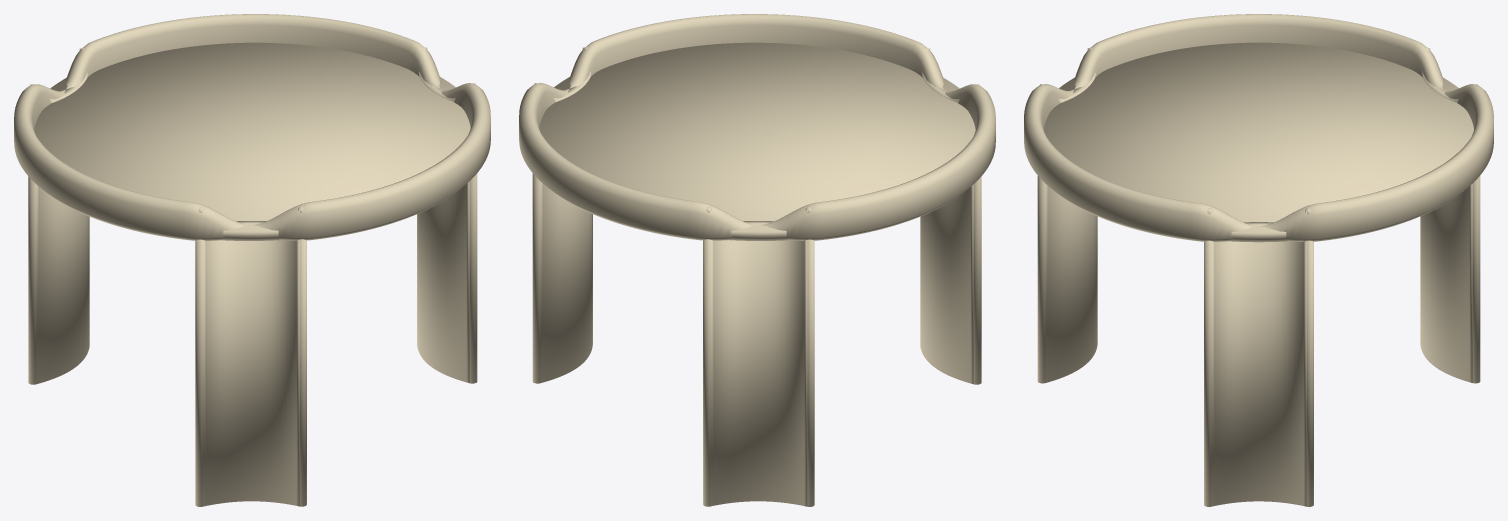
The model's file is stoppino-small.glb.
3 renders of one model, left to right at view 1: azimuth 30°, elevation 25°; view 2: azimuth 150°, elevation 25°; view 3: azimuth 270°, elevation 25°, orthographic.
Visible parts, largest first — view 1: stoppino-small; view 2: stoppino-small; view 3: stoppino-small.
Part boxes in pixels (x1=…): stoppino-small: x1=14, y1=14, x2=490, y2=506; stoppino-small: x1=519, y1=14, x2=995, y2=506; stoppino-small: x1=1024, y1=14, x2=1493, y2=506.
Size of the model in its own units: 0.47 by 0.3305 by 0.47.
